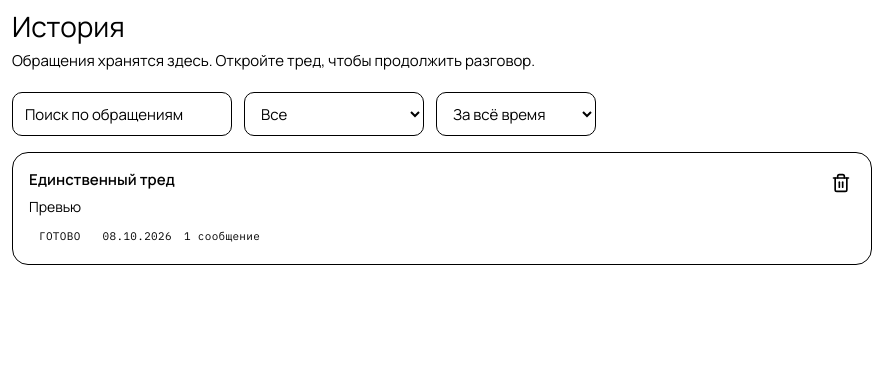
Test: HistoryPage › показывает 'ничего не найдено' и сбрасывает фильтр, когда обращения есть, но фильтр пуст
Expected: the text "Единственный тред" is shown, [29, 169, 175, 190]
In the search field labelled "Поиск по обращениям": (122, 114) [12, 92, 232, 136], type "несуществующий запрос"
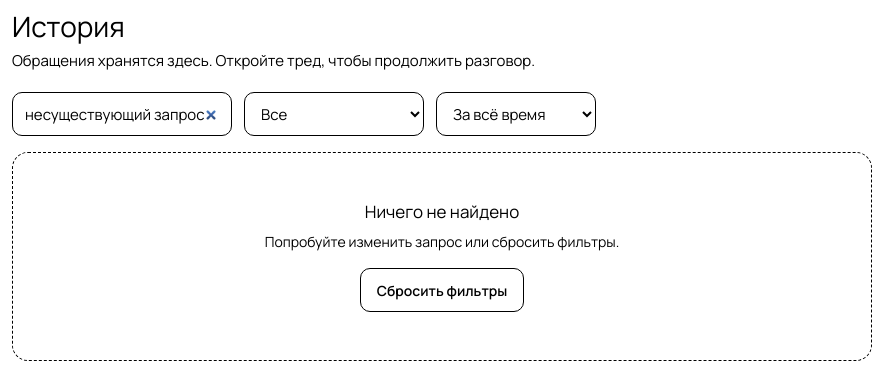
Expected: the text "Ничего не найдено" is shown, [365, 200, 519, 223]
Click the button "Сбросить фильтры": (442, 290) [360, 268, 524, 312]
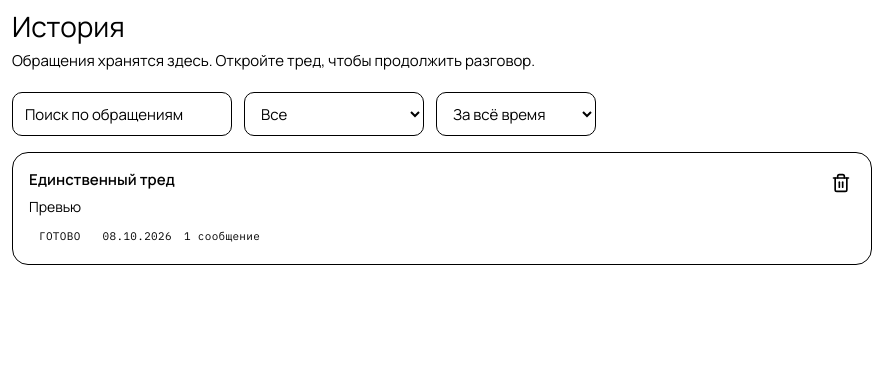
Expected: the text "Единственный тред" is shown, [29, 169, 175, 190]
